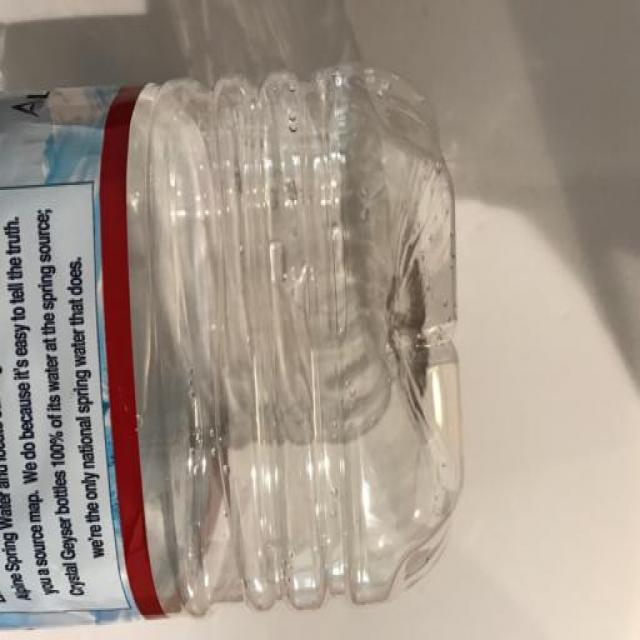plastic_bottle: (1, 66, 520, 640)
